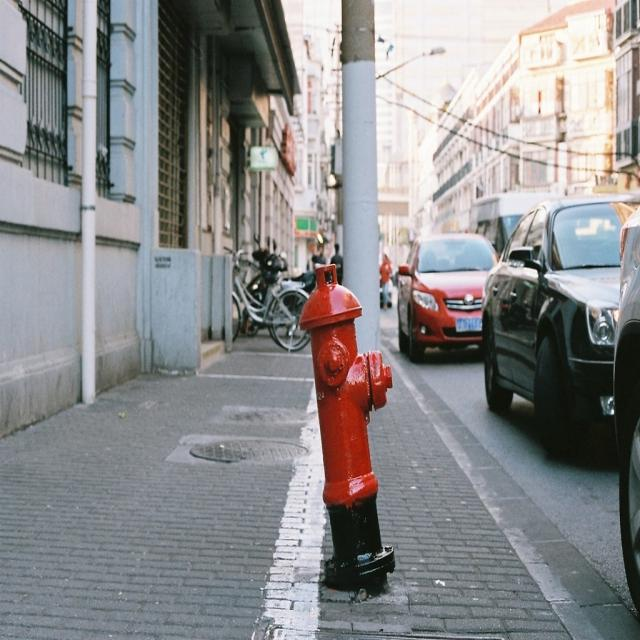fire_hydrant: (273, 244, 435, 640)
